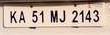1: (39, 10, 46, 23), (79, 9, 85, 23)
2: (71, 10, 79, 23)
3: (92, 10, 100, 23)
4: (85, 9, 92, 23)
5: (32, 10, 39, 23)
A: (19, 10, 26, 24)
J: (59, 9, 67, 23)
K: (9, 10, 18, 23)
M: (50, 9, 59, 23)
